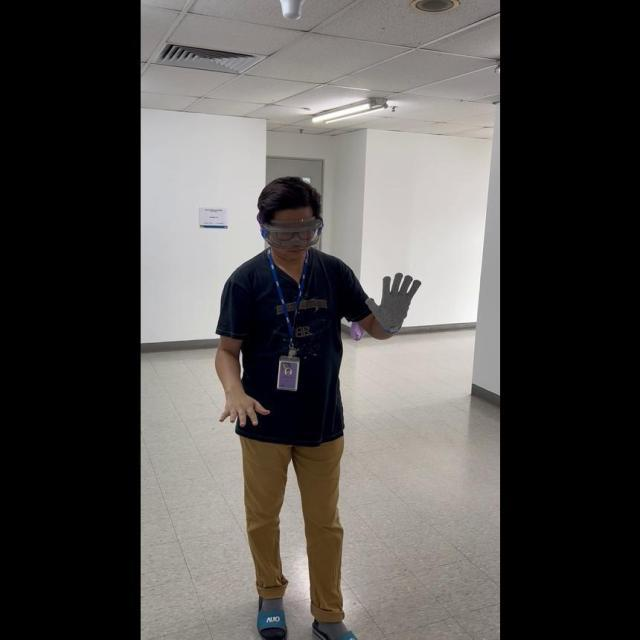bare_hand: (216, 382, 269, 428)
gloved_hand: (362, 268, 420, 332)
